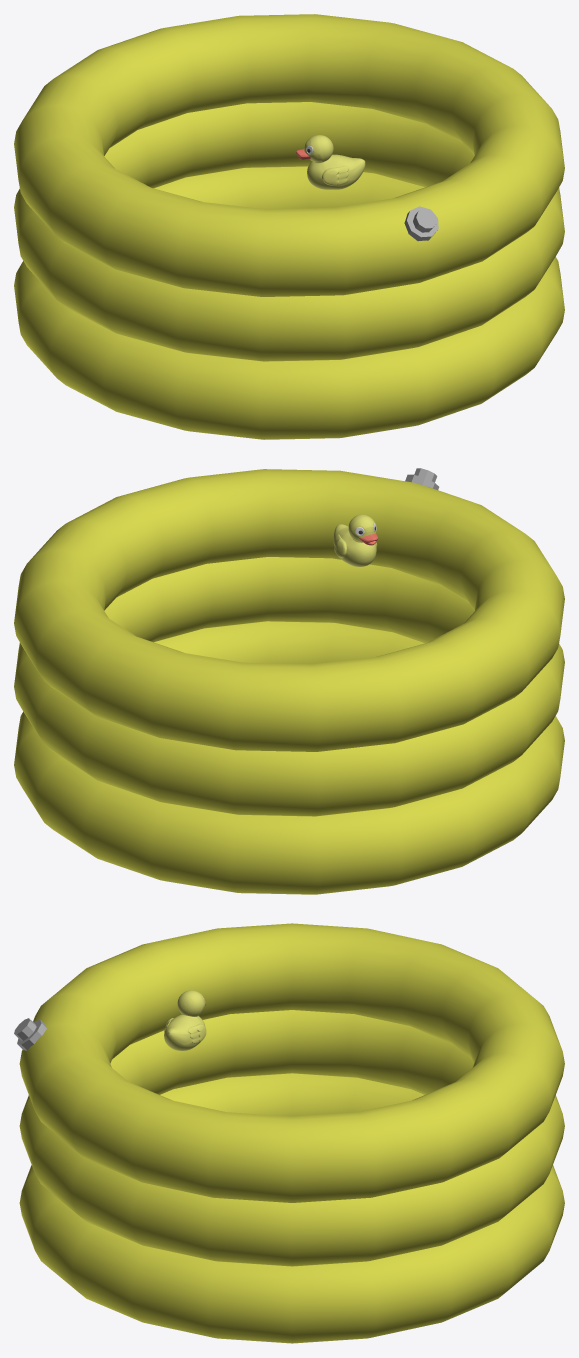
The model's file is CityPool.fbx.
3 renders of one model, top to bottom at view 1: azimuth 30°, elevation 25°; view 2: azimuth 150°, elevation 25°; view 3: azimuth 270°, elevation 25°, orthographic.
Visible parts, largest first — view 1: InflatablePool, RubberDuck; view 2: InflatablePool, RubberDuck; view 3: InflatablePool, RubberDuck.
Part boxes in pixels (x1,y1,x2,y2): InflatablePool: (14,14,564,439); RubberDuck: (296,135,365,189); InflatablePool: (14,468,564,894); RubberDuck: (333,514,378,566); InflatablePool: (14,923,564,1343); RubberDuck: (164,990,206,1050).
Bounding box in the file's own units: 6.17 × 3.01 × 6.24.
